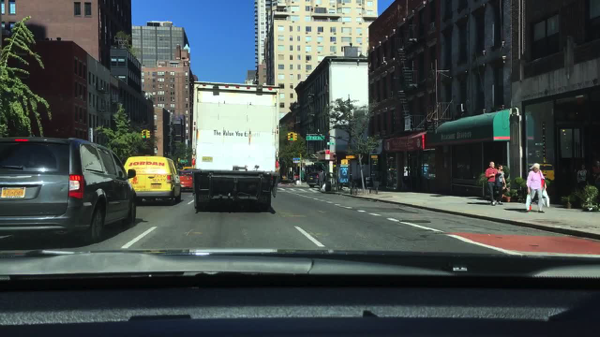car: (1, 134, 139, 244), (122, 155, 183, 206), (305, 171, 344, 191), (178, 169, 195, 192), (183, 165, 193, 171)
person: (521, 162, 547, 213), (481, 160, 499, 207), (495, 163, 507, 205), (575, 163, 588, 191), (590, 159, 599, 189), (317, 168, 323, 192)
traffic light: (147, 131, 152, 140), (286, 132, 291, 141), (143, 130, 147, 139), (294, 132, 298, 141), (290, 132, 293, 141)
traffic sign: (306, 136, 325, 141), (324, 150, 330, 161), (292, 157, 300, 163), (326, 141, 334, 146), (179, 159, 187, 164)
truck: (189, 80, 281, 214)
